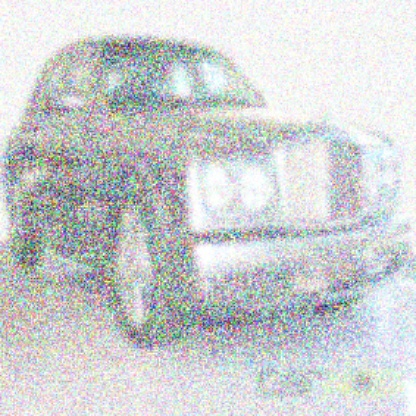Vehicle: (2, 32, 415, 350)
